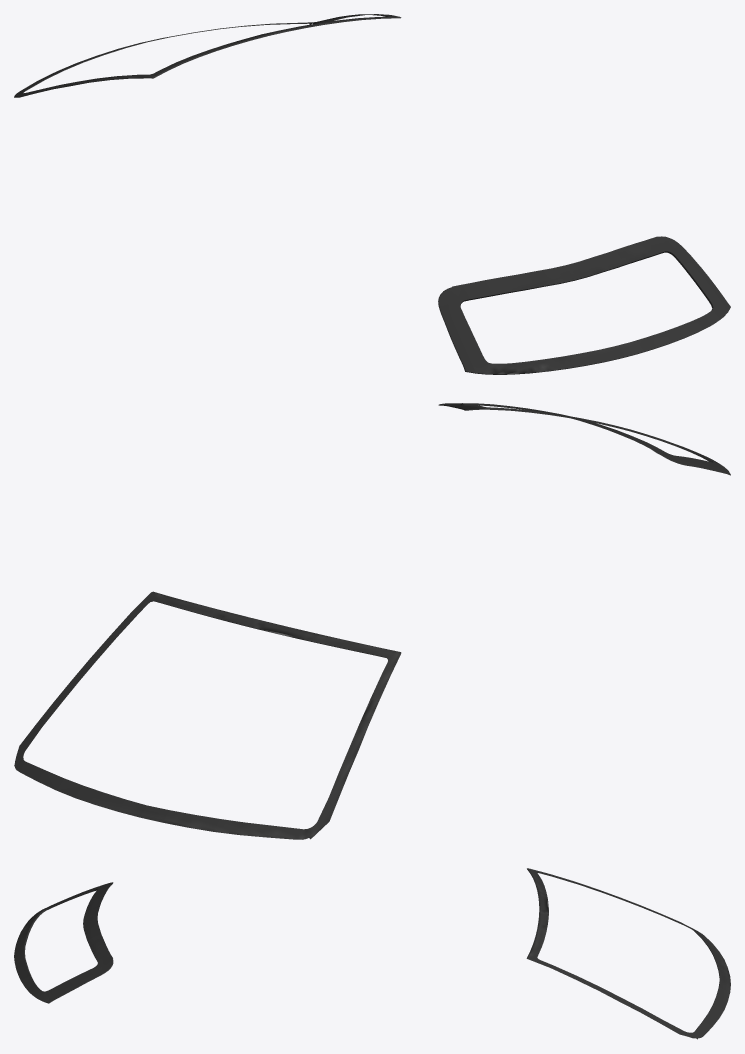
Rendered from cavity.glb.
The picture shows the model from 3 angles, top to bottom: view 1: azimuth 30°, elevation 25°; view 2: azimuth 150°, elevation 25°; view 3: azimuth 270°, elevation 25°; orthographic projection. The views are drawn at different scales.
Parts seen in each view (by area): view 1: cavity; view 2: cavity; view 3: cavity.
Part boxes in pixels (x1=…): cavity: x1=14, y1=14, x2=730, y2=374; cavity: x1=14, y1=403, x2=730, y2=839; cavity: x1=14, y1=868, x2=730, y2=1039.
Bounding box in the file's own units: 1.34 × 0.4282 × 3.61.
Materials: 1 (1 with a texture image).
